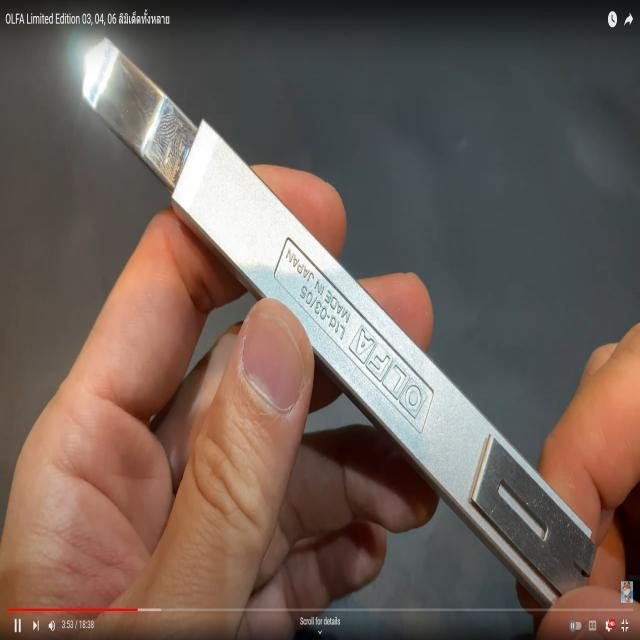cutter: (75, 36, 640, 566)
